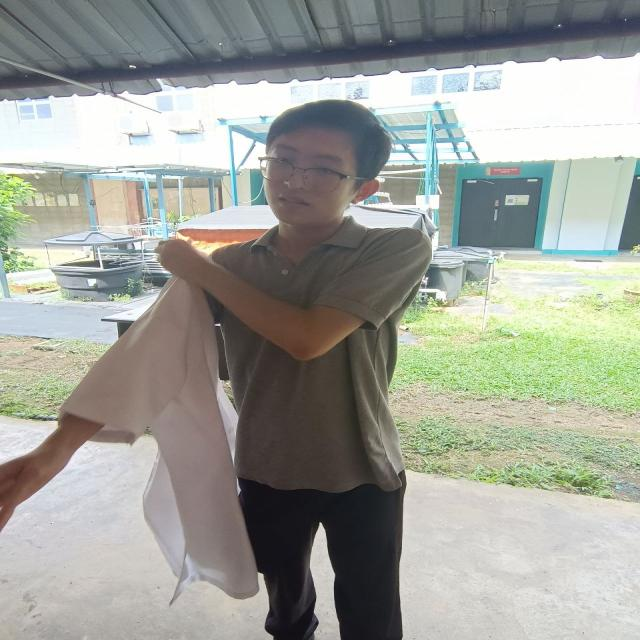person_without_labcoat: (0, 100, 431, 640)
